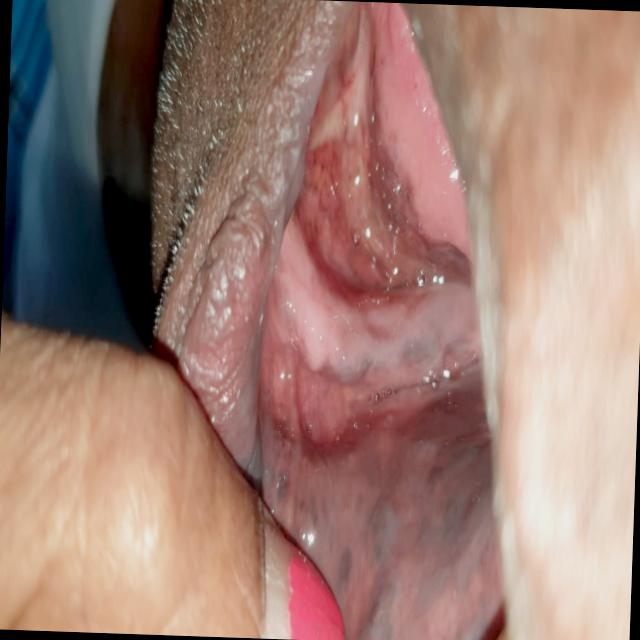Cancer: (243, 86, 486, 463)
